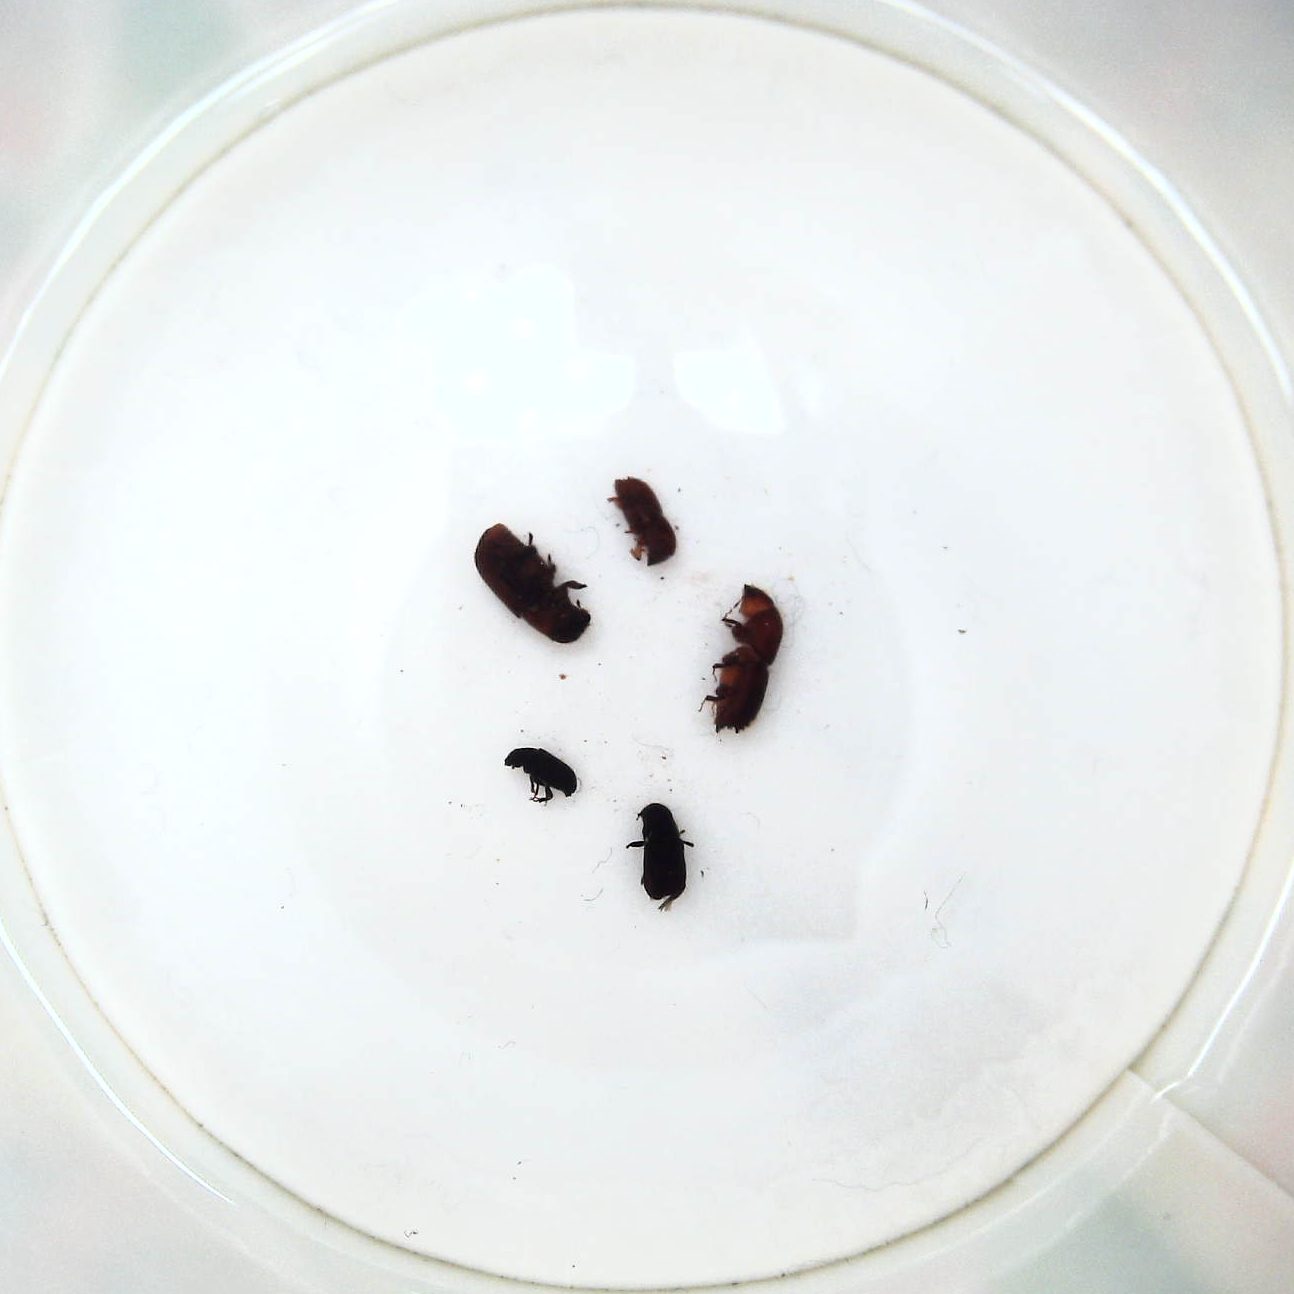Boerner: (698, 579, 788, 738)
Leconte: (470, 521, 595, 651)
armandi: (629, 796, 700, 916)
coleoptera: (498, 743, 583, 813)
linnaeus: (610, 467, 678, 574)
